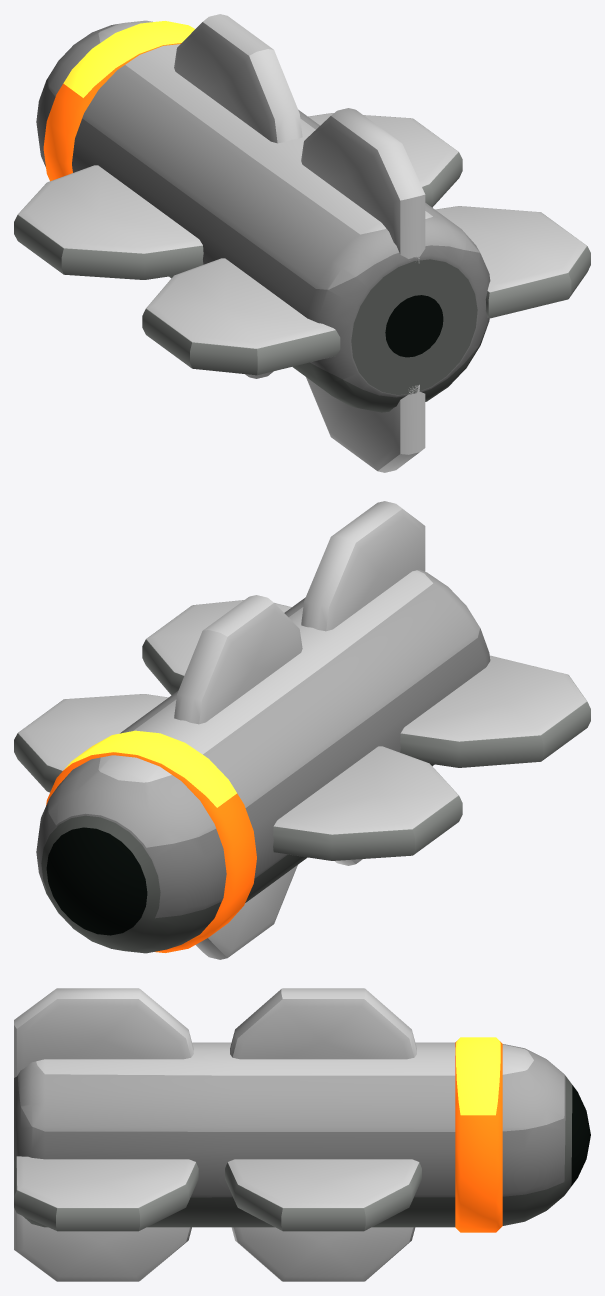
File: white_dart_s28.glb
3 renders of one model, top to bottom at view 1: azimuth 30°, elevation 25°; view 2: azimuth 150°, elevation 25°; view 3: azimuth 270°, elevation 25°, orthographic. The views are drawn at different scales.
Visible parts, largest first — view 1: body, fin0r, fin1r, fin0u, fin0l, fin1u, band, fin0d, fin1l; view 2: body, fin1r, fin0r, fin0u, fin1u, band, fin1l, fin0l, fin1d; view 3: body, fin1l, fin0l, fin0u, fin1u, band, fin0d, fin1d.
Boxes of the visible parts, left/top/right/bottom form: body: left=36, top=20, right=490, bottom=412; fin0r: left=142, top=258, right=340, bottom=375; fin1r: left=14, top=165, right=203, bottom=279; fin0u: left=301, top=108, right=425, bottom=263; fin0l: left=435, top=206, right=590, bottom=318; fin1u: left=174, top=14, right=302, bottom=143; band: left=43, top=21, right=194, bottom=181; fin0d: left=306, top=377, right=425, bottom=472; fin1l: left=308, top=113, right=462, bottom=207; body: left=36, top=569, right=490, bottom=953; fin1r: left=273, top=746, right=462, bottom=860; fin0r: left=400, top=655, right=590, bottom=767; fin0u: left=301, top=501, right=425, bottom=631; fin1u: left=174, top=595, right=302, bottom=724; band: left=46, top=730, right=256, bottom=952; fin1l: left=14, top=694, right=168, bottom=792; fin0l: left=142, top=600, right=291, bottom=695; fin1d: left=196, top=865, right=297, bottom=959; body: left=14, top=1042, right=590, bottom=1227; fin1l: left=225, top=1159, right=421, bottom=1231; fin0l: left=14, top=1156, right=198, bottom=1231; fin0u: left=14, top=988, right=193, bottom=1077; fin1u: left=230, top=988, right=416, bottom=1059; band: left=455, top=1037, right=502, bottom=1232; fin0d: left=14, top=1208, right=191, bottom=1281; fin1d: left=231, top=1227, right=415, bottom=1281.
Size of the model in its own units: 9.2 by 7.18 by 13.05.
